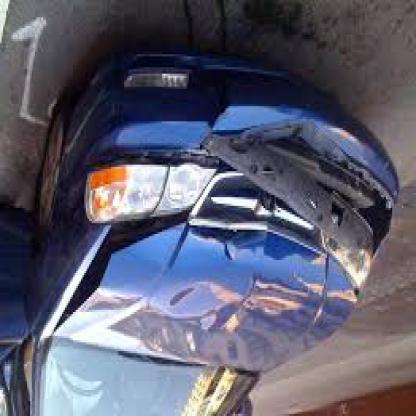dent: (211, 228, 251, 264)
